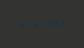eight: (31, 20, 37, 28), (59, 19, 65, 27)
nine: (17, 20, 23, 28), (52, 19, 58, 27)
one: (38, 20, 44, 27)
seven: (24, 20, 30, 28)
zero: (45, 19, 51, 27)
